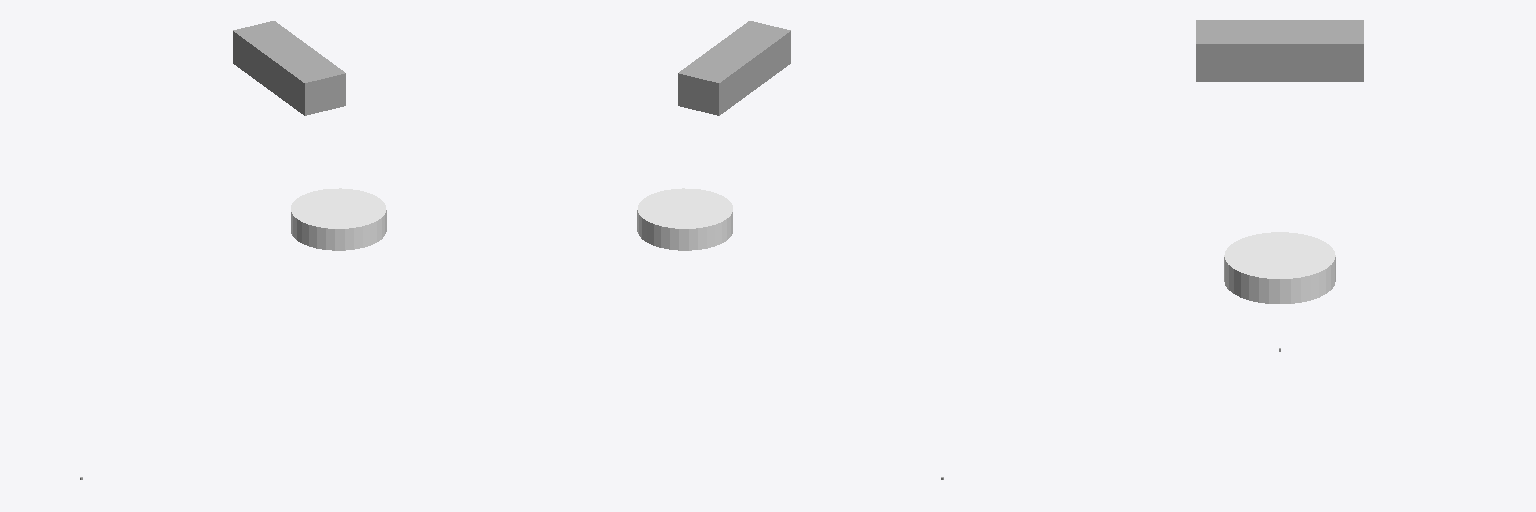
URDF robot description (limo_ackermann):
<?xml version="1.0" ?>
<!-- =================================================================================== -->
<!-- |    This document was autogenerated by xacro from /home/agilex/limo_export_20261019/limo_car_portable/gazebo/ackermann_with_sensor.xacro | -->
<!-- |    EDITING THIS FILE BY HAND IS NOT RECOMMENDED                                 | -->
<!-- =================================================================================== -->
<!--Auto: Zhui Li-->
<!--E-Mail: lz554113510@gmail.com -->
<!--Company: Institut für Intermodale Transport- und Logistiksysteme in Technische Universität Braunschweig -->
<!-- Description: Diese xacro-Datei basiert auf Regeln und definiert Funktionen durch xacro,
um die Erstellung der ganzen Struktur des Wagens in Ackerman-Type zu ermöglichen. Das Fahrzeuggrundmodell und
andere Sensoren zusammengebaut werden und laden sie das Modell in Gazebo.-->
<robot name="limo_ackermann">
	<!-- *********************************************************************************************** -->
	<!-- *********************************************************************************************** -->
	<!-- *********************************************************************************************** -->
	<!-- *********************************************************************************************** -->
	<!-- <link name="base_footprint"/>

        <joint name="base_joint" type="fixed">
            <parent link="base_footprint"/>
            <child link="base_link"/>
            <origin xyz="0.0 0.0 0.15" rpy="0 0 0"/>
        </joint> -->
	<!-- herstellt base_link -->
	<link name="base_link">
		<visual>
			<origin rpy="0 0 1.570795" xyz="0 0 -0.15"/>
			<geometry>
				<!-- Modell von Hersteller, aber es ist kleiner als realen Produkt, da die Skale vergrößert wird -->
				<mesh filename="package://limo_car_portable/meshes/limo_base.dae" scale="1.2 1.2 1.2"/>
			</geometry>
		</visual>
		<!-- Modell für physikalische Kollision zu modellieren. -->
		<collision>
			<origin rpy="0 0 0" xyz="0 0 0"/>
			<geometry>
				<box size="0.19 0.31 0.12"/>
			</geometry>
		</collision>
		<inertial>
			<origin xyz="0.0 0.0 0.0"/>
			<mass value="4.34"/>
			<inertia ixx="0.018264166666666668" ixy="0" ixz="0" iyy="0.03996416666666667" iyz="0" izz="0.04781233333333334"/>
		</inertial>
	</link>
	<gazebo reference="base_link">
		<material>
			<color rgba="0 0 0 0.5"/>
		</material>
	</gazebo>
	<!-- hinten Räder -->
	<link name="rear_left_wheel_link">
		<visual>
			<origin rpy="0 0 0" xyz="0 0 0"/>
			<geometry>
				<mesh filename="package://limo_car_portable/meshes/limo_wheel.dae" scale="1.2 1.2 1.2"/>
			</geometry>
		</visual>
		<collision>
			<origin rpy="1.570795 0 0" xyz="0 0.0225 0"/>
			<geometry>
				<cylinder length="0.045" radius="0.045"/>
			</geometry>
		</collision>
		<inertial>
			<origin xyz="0.0 0.0 0.0"/>
			<mass value="0.5"/>
			<inertia ixx="0.00033749999999999996" ixy="0" ixz="0" iyy="0.00033749999999999996" iyz="0" izz="0.00050625"/>
		</inertial>
	</link>
	<joint name="rear_left_wheel_joint" type="continuous">
		<parent link="base_link"/>
		<child link="rear_left_wheel_link"/>
		<origin rpy="0 0 0" xyz="-0.12 0.084 -0.1"/>
		<axis xyz="0 1 0"/>
	</joint>
	<transmission name="rear_left_wheel_trans" type="SimpleTransmission">
		<type>transmission_interface/SimpleTransmission</type>
		<actuator name="rear_left_wheel_motor">
			<hardwareInterface>hardware_interface/VelocityJointInterface</hardwareInterface>
			<mechanicalReduction>1</mechanicalReduction>
		</actuator>
		<joint name="rear_left_wheel_joint">
			<hardwareInterface>hardware_interface/VelocityJointInterface</hardwareInterface>
		</joint>
	</transmission>
	<link name="rear_right_wheel_link">
		<visual>
			<origin rpy="0 0 0" xyz="0 0 0"/>
			<geometry>
				<mesh filename="package://limo_car_portable/meshes/limo_wheel.dae" scale="1.2 1.2 1.2"/>
			</geometry>
		</visual>
		<collision>
			<origin rpy="1.570795 0 0" xyz="0 0.0225 0"/>
			<geometry>
				<cylinder length="0.045" radius="0.045"/>
			</geometry>
		</collision>
		<inertial>
			<origin xyz="0.0 0.0 0.0"/>
			<mass value="0.5"/>
			<inertia ixx="0.00033749999999999996" ixy="0" ixz="0" iyy="0.00033749999999999996" iyz="0" izz="0.00050625"/>
		</inertial>
	</link>
	<joint name="rear_right_wheel_joint" type="continuous">
		<parent link="base_link"/>
		<child link="rear_right_wheel_link"/>
		<origin rpy="3.14159 0 0" xyz="-0.12 -0.084 -0.1"/>
		<axis xyz="0 -1 0"/>
	</joint>
	<transmission name="rear_right_wheel_trans" type="SimpleTransmission">
		<type>transmission_interface/SimpleTransmission</type>
		<actuator name="rear_right_wheel_motor">
			<hardwareInterface>hardware_interface/VelocityJointInterface</hardwareInterface>
			<mechanicalReduction>1</mechanicalReduction>
		</actuator>
		<joint name="rear_right_wheel_joint">
			<hardwareInterface>hardware_interface/VelocityJointInterface</hardwareInterface>
		</joint>
	</transmission>
	<link name="front_left_steer_link">
		<inertial>
			<!-- diese Daten kommen aus den Herstellern -->
			<mass value="0.25"/>
			<inertia ixx="0.00525" ixy="0" ixz="0" iyy="0.00035" iyz="0" izz="0.00525"/>
			<origin xyz="0 0 0"/>
		</inertial>
		<visual>
			<origin rpy="0 0 0" xyz="0 0 0"/>
			<geometry>
				<!-- es ist sehr klein, einfach als Klein definiert wird -->
				<cylinder length="0.0001" radius="0.0001"/>
			</geometry>
		</visual>
		<collision>
			<origin rpy="1.570795 0 0" xyz="0 0.0225 0"/>
			<geometry>
				<cylinder length="0.045" radius="0.034999999999999996"/>
			</geometry>
		</collision>
	</link>
	<joint name="front_left_steer_joint" type="revolute">
		<parent link="base_link"/>
		<child link="front_left_steer_link"/>
		<origin rpy="0 0 0" xyz="0.12 0.084 -0.1"/>
		<axis xyz="0 0 1"/>
		<!-- Paramenten von Herstellern -->
		<limit effort="5" lower="-0.523598767" upper="0.523598767" velocity="0.5"/>
		<dynamics damping="1.0" friction="2.0"/>
	</joint>
	<transmission name="front_left_hinge_trans" type="SimpleTransmission">
		<type>transmission_interface/SimpleTransmission</type>
		<actuator name="front_left_hinge_motor">
			<hardwareInterface>hardware_interface/EffortJointInterface</hardwareInterface>
			<mechanicalReduction>1</mechanicalReduction>
		</actuator>
		<joint name="front_left_steer_joint">
			<hardwareInterface>hardware_interface/EffortJointInterface</hardwareInterface>
		</joint>
	</transmission>
	<link name="front_left_wheel_link">
		<visual>
			<origin rpy="0 0 0" xyz="0 0 0"/>
			<geometry>
				<mesh filename="package://limo_car_portable/meshes/limo_wheel.dae" scale="1.2 1.2 1.2"/>
			</geometry>
		</visual>
		<collision>
			<origin rpy="1.570795 0 0" xyz="0 0.0225 0"/>
			<geometry>
				<cylinder length="0.045" radius="0.045"/>
			</geometry>
		</collision>
		<inertial>
			<origin xyz="0.0 0.0 0.0"/>
			<mass value="0.5"/>
			<inertia ixx="0.00033749999999999996" ixy="0" ixz="0" iyy="0.00033749999999999996" iyz="0" izz="0.00050625"/>
		</inertial>
	</link>
	<joint name="front_left_wheel_joint" type="continuous">
		<parent link="front_left_steer_link"/>
		<child link="front_left_wheel_link"/>
		<origin rpy="0 0 0" xyz="0 0 0"/>
		<axis xyz="0 1 0"/>
	</joint>
	<transmission name="front_left_wheel_trans" type="SimpleTransmission">
		<type>transmission_interface/SimpleTransmission</type>
		<actuator name="front_left_wheel_motor">
			<!-- Type für den Topic(Paramenten) -->
			<hardwareInterface>hardware_interface/VelocityJointInterface</hardwareInterface>
			<mechanicalReduction>1</mechanicalReduction>
		</actuator>
		<joint name="front_left_wheel_joint">
			<hardwareInterface>hardware_interface/VelocityJointInterface</hardwareInterface>
		</joint>
	</transmission>
	<link name="front_right_steer_link">
		<inertial>
			<mass value="0.25"/>
			<inertia ixx="0.00525" ixy="0" ixz="0" iyy="0.00035" iyz="0" izz="0.00525"/>
			<origin xyz="0 0 0"/>
		</inertial>
		<visual>
			<origin rpy="0 0 0" xyz="0 0 0"/>
			<geometry>
				<cylinder length="0.0001" radius="0.0001"/>
			</geometry>
		</visual>
		<collision>
			<origin rpy="1.570795 0 0" xyz="0 0.0225 0"/>
			<geometry>
				<cylinder length="0.045" radius="0.034999999999999996"/>
			</geometry>
		</collision>
	</link>
	<joint name="front_right_steer_joint" type="revolute">
		<parent link="base_link"/>
		<child link="front_right_steer_link"/>
		<origin rpy="3.14159 0 0" xyz="0.12 -0.084 -0.1"/>
		<axis xyz="0 0 -1"/>
		<limit effort="5" lower="-0.523598767" upper="0.523598767" velocity="0.5"/>
		<dynamics damping="1.0" friction="2.0"/>
	</joint>
	<transmission name="front_right_hinge_trans" type="SimpleTransmission">
		<type>transmission_interface/SimpleTransmission</type>
		<actuator name="front_right_hinge_motor">
			<hardwareInterface>hardware_interface/EffortJointInterface</hardwareInterface>
			<mechanicalReduction>1</mechanicalReduction>
		</actuator>
		<joint name="front_right_steer_joint">
			<hardwareInterface>hardware_interface/EffortJointInterface</hardwareInterface>
		</joint>
	</transmission>
	<link name="front_right_wheel_link">
		<visual>
			<origin rpy="0 0 0" xyz="0 0 0"/>
			<geometry>
				<mesh filename="package://limo_car_portable/meshes/limo_wheel.dae" scale="1.2 1.2 1.2"/>
			</geometry>
		</visual>
		<collision>
			<origin rpy="1.570795 0 0" xyz="0 0.0225 0"/>
			<geometry>
				<cylinder length="0.045" radius="0.045"/>
			</geometry>
		</collision>
		<inertial>
			<origin xyz="0.0 0.0 0.0"/>
			<mass value="0.5"/>
			<inertia ixx="0.00033749999999999996" ixy="0" ixz="0" iyy="0.00033749999999999996" iyz="0" izz="0.00050625"/>
		</inertial>
	</link>
	<joint name="front_right_wheel_joint" type="continuous">
		<parent link="front_right_steer_link"/>
		<child link="front_right_wheel_link"/>
		<origin rpy="0 0  0" xyz="0 0 0"/>
		<axis xyz="0 -1 0"/>
	</joint>
	<transmission name="front_right_wheel_trans" type="SimpleTransmission">
		<type>transmission_interface/SimpleTransmission</type>
		<actuator name="front_right_wheel_motor">
			<!-- Type für den Topic(Paramenten) -->
			<hardwareInterface>hardware_interface/VelocityJointInterface</hardwareInterface>
			<mechanicalReduction>1</mechanicalReduction>
		</actuator>
		<joint name="front_right_wheel_joint">
			<hardwareInterface>hardware_interface/VelocityJointInterface</hardwareInterface>
		</joint>
	</transmission>
	<!-- ********************************** Kontrolle zu erstellen ************************************* -->
	<!-- *********************************************************************************************** -->
	<gazebo>
		<plugin filename="libgazebo_ros_joint_state_publisher.so" name="joint_states">
			<update_rate>50</update_rate>
			<joint_name>front_left_wheel_joint</joint_name>
			<joint_name>front_right_wheel_joint</joint_name>
			<joint_name>rear_left_wheel_joint</joint_name>
			<joint_name>rear_right_wheel_joint</joint_name>
			<joint_name>front_left_steer_joint</joint_name>
			<joint_name>front_right_steer_joint</joint_name>
		</plugin>
		<plugin filename="libgazebo_ros_ackermann_drive.so" name="ackermann_controller">
			<update_rate>100</update_rate>
			<front_left_joint>front_left_wheel_joint</front_left_joint>
			<front_right_joint>front_right_wheel_joint</front_right_joint>
			<rear_left_joint>rear_left_wheel_joint</rear_left_joint>
			<rear_right_joint>rear_right_wheel_joint</rear_right_joint>
			<left_steering_joint>front_left_steer_joint</left_steering_joint>
			<right_steering_joint>front_right_steer_joint</right_steering_joint>
			<steering_wheel_joint>/</steering_wheel_joint>
			<left_steering_pid_gain>10000 100 10</left_steering_pid_gain>
			<left_steering_i_rang>0 0</left_steering_i_rang>
			<right_steering_pid_gain>10000 100 10</right_steering_pid_gain>
			<right_steering_i_rang>0 0</right_steering_i_rang>
			<linear_velocity_pid_gain>0.5 10 0.001</linear_velocity_pid_gain>
			<linear_velocity_i_range>0 0</linear_velocity_i_range>
			<max_steer>0.523598767</max_steer>
			<wheel_separation>0.172</wheel_separation>
			<wheel_diameter>0.09</wheel_diameter>
			<max_wheel_torque>20</max_wheel_torque>
			<max_wheel_acceleration>1.0</max_wheel_acceleration>
			<command_topic>cmd_vel</command_topic>
			<publish_odom>true</publish_odom>
			<publish_odom_tf>true</publish_odom_tf>
			<publish_wheel_tf>false</publish_wheel_tf>
			<odometry_topic>odom</odometry_topic>
			<odometry_frame>odom</odometry_frame>
			<robot_base_frame>base_link</robot_base_frame>
			<odometry_source>1</odometry_source>
		</plugin>
	</gazebo>
	<link name="laser_link">
		<inertial>
			<mass value="0.1"/>
			<origin rpy="0 0 0" xyz="0.0 0 0"/>
			<inertia ixx="1e-6" ixy="0" ixz="0" iyy="1e-6" iyz="0" izz="1e-6"/>
		</inertial>
		<visual name="laser_visual">
			<origin rpy="0 0 0" xyz="0 0 0"/>
			<geometry>
				<cylinder length="0.01" radius="0.02"/>
			</geometry>
			<material name="laser_material">
				<color rgba="1 1 1 1"/>
				<ambient>0.1 0.1 0.1 1</ambient>
				<diffuse>0.1 0.1 0.2 1</diffuse>
				<specular>0 0 0 0</specular>
				<emissive>0 0 0 1</emissive>
			</material>
		</visual>
		<collision name="laser_collision">
			<origin rpy="0 0 0" xyz="0 0 0"/>
			<geometry>
				<cylinder length="0.016" radius="0.032"/>
			</geometry>
		</collision>
	</link>
	<gazebo reference="laser_link">
		<sensor name="laser_sensor" type="ray">
			<visualize>false</visualize>
			<update_rate>8</update_rate>
			<ray>
				<scan>
					<horizontal>
						<samples>720</samples>
						<resolution>1</resolution>
						<min_angle>-2.09439504</min_angle>
						<!-- Einheit in "rad", von Hersteller -->
						<max_angle>2.09439504</max_angle>
					</horizontal>
				</scan>
				<range>
					<min>0.2</min>
					<max>8.0</max>
					<resolution>0.01</resolution>
				</range>
				<!-- um bessere Realität zu simulieren, wird Rauschen auch addiert -->
				<noise>
					<type>gaussian</type>
					<mean>0.0</mean>
					<stddev>0.01</stddev>
				</noise>
			</ray>
			<plugin filename="libgazebo_ros_ray_sensor.so" name="gazebo_ros_laser_sensor">
				<ros>
					<namespace>/</namespace>
					<remapping>~/out:=scan</remapping>
				</ros>
				<output_type>sensor_msgs/LaserScan</output_type>
				<min_intensity>150.0</min_intensity>
			</plugin>
		</sensor>
	</gazebo>
	<joint name="laser_joint" type="fixed">
		<origin rpy="0 0 0" xyz="0.1236 0 -0.01"/>
		<parent link="base_link"/>
		<child link="laser_link"/>
	</joint>
	<link name="depth_camera_link">
		<origin rpy="0 0 0" xyz="0 0 0"/>
		<inertial>
			<mass value="0.1"/>
			<origin rpy="0 0 0" xyz="0.0 0 0"/>
			<inertia ixx="1e-6" ixy="0" ixz="0" iyy="1e-6" iyz="0" izz="1e-6"/>
		</inertial>
		<visual name="depth_camera_visual">
			<origin rpy="0 0 0" xyz="0 0 0"/>
			<geometry>
				<box size="0.02 0.06 0.015"/>
			</geometry>
			<material name="depth_camera_material">
				<color rgba="0.75 0.75 0.75 1"/>
				<ambient>0.1 0.1 0.1 1</ambient>
				<diffuse>0.1 0.1 0.2 1</diffuse>
				<specular>0 0 0 0</specular>
				<emissive>0 0 0 1</emissive>
			</material>
		</visual>
		<collision name="depth_camera_collision">
			<origin rpy="0 0 0" xyz="0 0 0"/>
			<geometry>
				<box size="0.02 0.06 0.015"/>
			</geometry>
		</collision>
	</link>
	<link name="depth_link"/>
	<joint name="depth_camera_to_camera_joint" type="fixed">
		<origin rpy="-1.570796 0 -1.570796 " xyz="0 0 0"/>
		<parent link="depth_camera_link"/>
		<child link="depth_link"/>
	</joint>
	<gazebo reference="depth_camera_link">
		<sensor name="sensor_camera" type="depth">
			<pose>0.0 0.0 0.0 0.0 0.0 0.0</pose>
			<always_on>true</always_on>
			<visualize>true</visualize>
			<update_rate>10.0</update_rate>
			<camera name="head">
				<horizontal_fov>1.3962634</horizontal_fov>
				<!-- 60*pi/180 -->
				<!-- normalisieren die Form für Fotos -->
				<image>
					<width>640</width>
					<height>480</height>
					<format>R8G8B8</format>
				</image>
				<clip>
					<near>0.15</near>
					<far>8.0</far>
				</clip>
			</camera>
			<plugin filename="libgazebo_ros_camera.so" name="gazebo_ros_depth_camera_sensor">
				<ros>
					<!--                         <namespace>${frame_prefix}</namespace>-->
					<remapping>depth_camera/image_raw:=rgb/image_raw</remapping>
					<remapping>depth_camera/image_depth:=depth/image_raw</remapping>
					<remapping>depth_camera/camera_info:=rgb/camera_info</remapping>
					<remapping>depth_camera/camera_info_depth:=depth/camera_info</remapping>
					<remapping>depth_camera/points:=depth/points</remapping>
				</ros>
				<camera_name>depth_camera</camera_name>
				<frame_name>depth_camera_frame_optical</frame_name>
				<hack_baseline>0.07</hack_baseline>
				<min_depth>0.001</min_depth>
				<max_depth>300.0</max_depth>
			</plugin>
		</sensor>
	</gazebo>
	<joint name="depth_camera_joint" type="fixed">
		<origin rpy="0 0 0" xyz="0.1 0 0.065"/>
		<parent link="base_link"/>
		<child link="depth_camera_link"/>
	</joint>
	<link name="imu_link">
		<pose>0 0 0 0 0 0</pose>
		<inertial>
			<mass value="0.01"/>
			<origin rpy="0 0 0" xyz="0.0 0 0"/>
			<inertia ixx="1e-7" ixy="0" ixz="0" iyy="1e-7" iyz="0" izz="1e-7"/>
		</inertial>
		<visual name="imu_visual">
			<origin rpy="0 0 0" xyz="0 0 0"/>
			<geometry>
				<box size="0.001 0.001 0.001"/>
			</geometry>
			<material name="imu_material">
				<color rgba="0.75 0.75 0.75 1"/>
				<ambient>0.1 0.1 0.1 1</ambient>
				<diffuse>0.1 0.1 0.2 1</diffuse>
				<specular>0 0 0 0</specular>
				<emissive>0 0 0 1</emissive>
			</material>
		</visual>
		<collision name="imu_collision">
			<origin rpy="0 0 0" xyz="0 0 0"/>
			<geometry>
				<box size="0.001 0.001 0.001"/>
			</geometry>
		</collision>
	</link>
	<gazebo reference="imu_link">
		<gravity>true</gravity>
		<sensor name="imu_sensor" type="imu">
			<always_on>true</always_on>
			<update_rate>100</update_rate>
			<visualize>true</visualize>
			<topic>__default_topic__</topic>
			<pose>0 0 0 0 0 0</pose>
			<plugin filename="libgazebo_ros_imu_sensor.so" name="imu_plugin">
				<topicName>/limo/imu</topicName>
				<bodyName>imu_link</bodyName>
				<updateRateHZ>100.0</updateRateHZ>
				<gaussianNoise>0.001</gaussianNoise>
				<xyzOffset>0 0 0</xyzOffset>
				<rpyOffset>0 0 0</rpyOffset>
				<frameName>imu_link</frameName>
			</plugin>
		</sensor>
	</gazebo>
	<joint name="imu_joint" type="fixed">
		<origin rpy="0 0 0" xyz="0.0 0 -0.1"/>
		<parent link="base_link"/>
		<child link="imu_link"/>
	</joint>
</robot>

--- Facts derived from the render (not from the file) ---
Views: 3 orthographic renders of the robot side by side, from view 1: azimuth 30°, elevation 25°; view 2: azimuth 150°, elevation 25°; view 3: azimuth 270°, elevation 25°.
Robot: limo_ackermann — 11 links, 10 joints (2 revolute, 4 continuous, 4 fixed); root link base_link; default pose: all joints at 0.
Links seen in each view (by area): view 1: depth_camera_link, laser_link; view 2: depth_camera_link, laser_link; view 3: depth_camera_link, laser_link.
Link boxes in pixels (bbox=[...]): depth_camera_link: bbox=[233, 21, 345, 115]; laser_link: bbox=[291, 188, 386, 250]; depth_camera_link: bbox=[678, 21, 790, 115]; laser_link: bbox=[637, 188, 732, 250]; depth_camera_link: bbox=[1196, 20, 1363, 81]; laser_link: bbox=[1224, 232, 1335, 303].
Size in the robot's own frame: 0.1441 by 0.1682 by 0.173 metres.
0 mesh visuals loaded from 2 distinct referenced files (none loaded); not drawn: 5 (reference not matched to a file when rendering).
